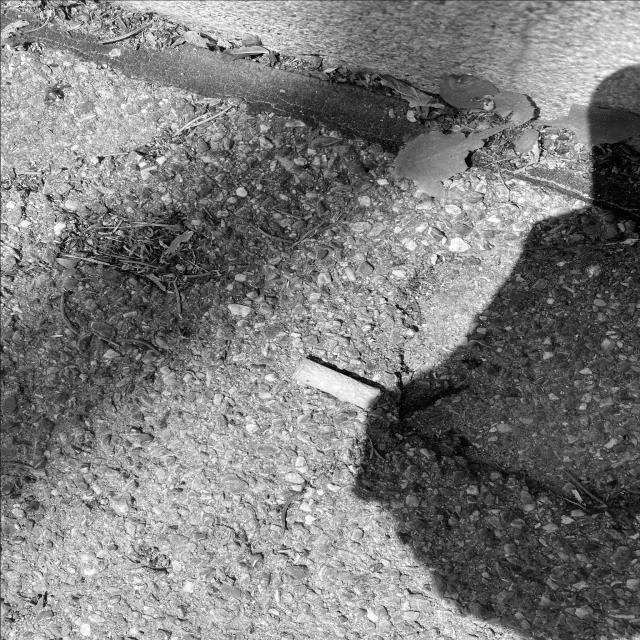other waste: (288, 355, 385, 410)
